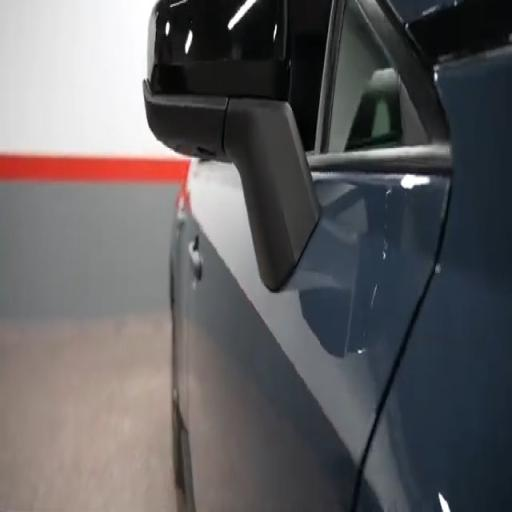door: (186, 0, 450, 511)
side_mirror: (144, 0, 319, 290)
tire: (171, 309, 184, 490)
window: (325, 0, 426, 152)
